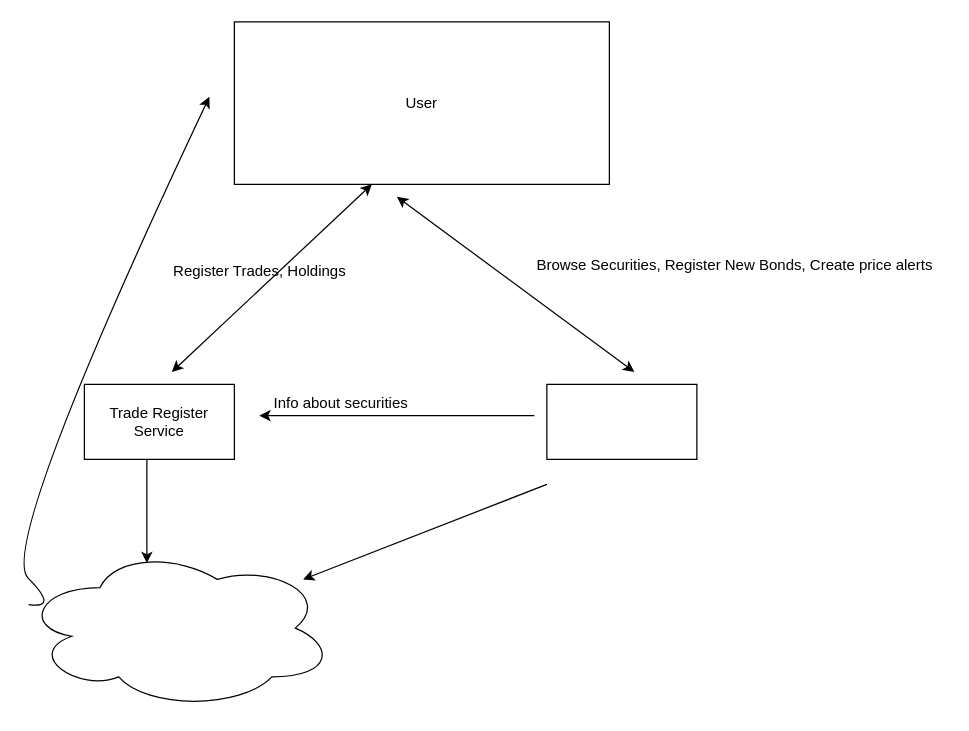
Some shapes in this 969 by 731 pixel diagram are drawn without their labels. The centre of each missing label's shape, as x and y in pixels:
Notification service: the point at 177,627
Securities Service: the point at 621,421
